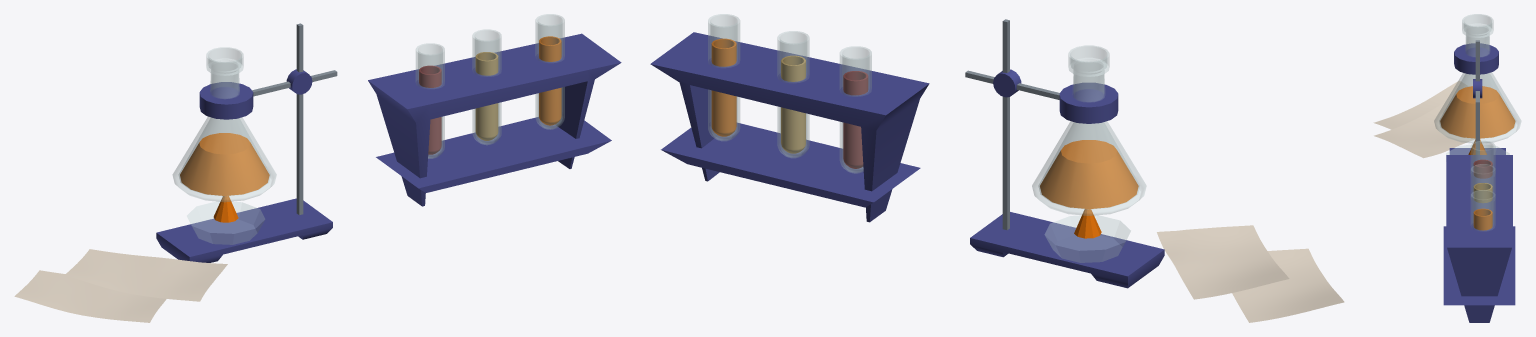
Rendered from materiel_ilot_02.fbx.
3 renders of one model, left to right at view 1: azimuth 30°, elevation 25°; view 2: azimuth 150°, elevation 25°; view 3: azimuth 270°, elevation 25°, orthographic. The views are drawn at different scales.
Parts seen in each view (by area): view 1: pCylinder71; view 2: pCylinder71; view 3: pCylinder71.
Boxes of the visible parts, bbox=[...] form: pCylinder71: bbox=[14, 14, 621, 322]; pCylinder71: bbox=[650, 14, 1344, 322]; pCylinder71: bbox=[1373, 14, 1521, 322].
Size of the model in its own units: 302 by 98.81 by 77.
